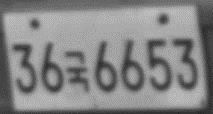3: (172, 38, 199, 89), (11, 42, 38, 92)
5: (146, 38, 173, 90)
6: (91, 40, 120, 92), (40, 40, 65, 94), (120, 40, 146, 91)
국: (63, 49, 91, 95)
